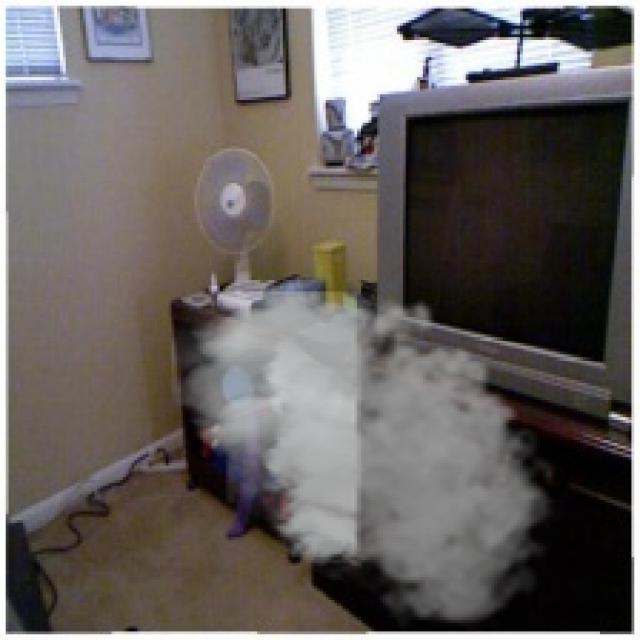Smoke: (171, 277, 566, 632)
